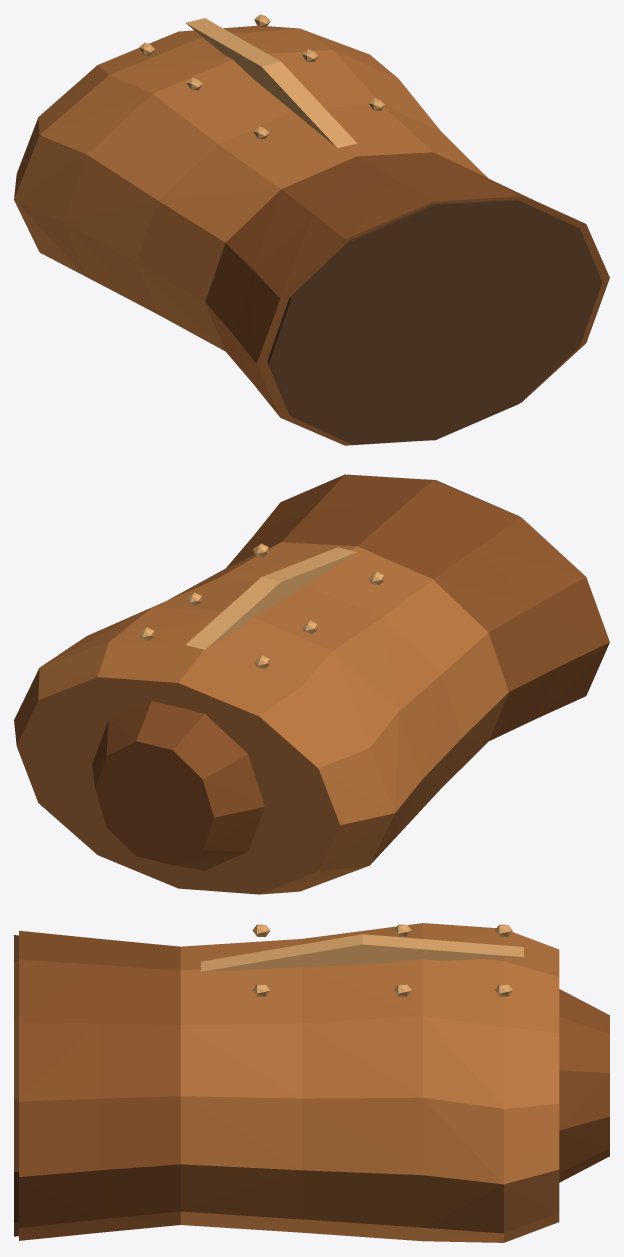
The model's file is drop_bronze_body.glb.
3 renders of one model, top to bottom at view 1: azimuth 30°, elevation 25°; view 2: azimuth 150°, elevation 25°; view 3: azimuth 270°, elevation 25°, orthographic. The views are drawn at different scales.
Visible parts, largest first — view 1: drop_bronze_body; view 2: drop_bronze_body; view 3: drop_bronze_body.
Part boxes in pixels (x1,y1,x2,y2): drop_bronze_body: (14,14,609,445); drop_bronze_body: (14,474,609,894); drop_bronze_body: (14,923,609,1242).
Bounding box in the file's own units: 0.3696 × 0.2384 × 0.472.
